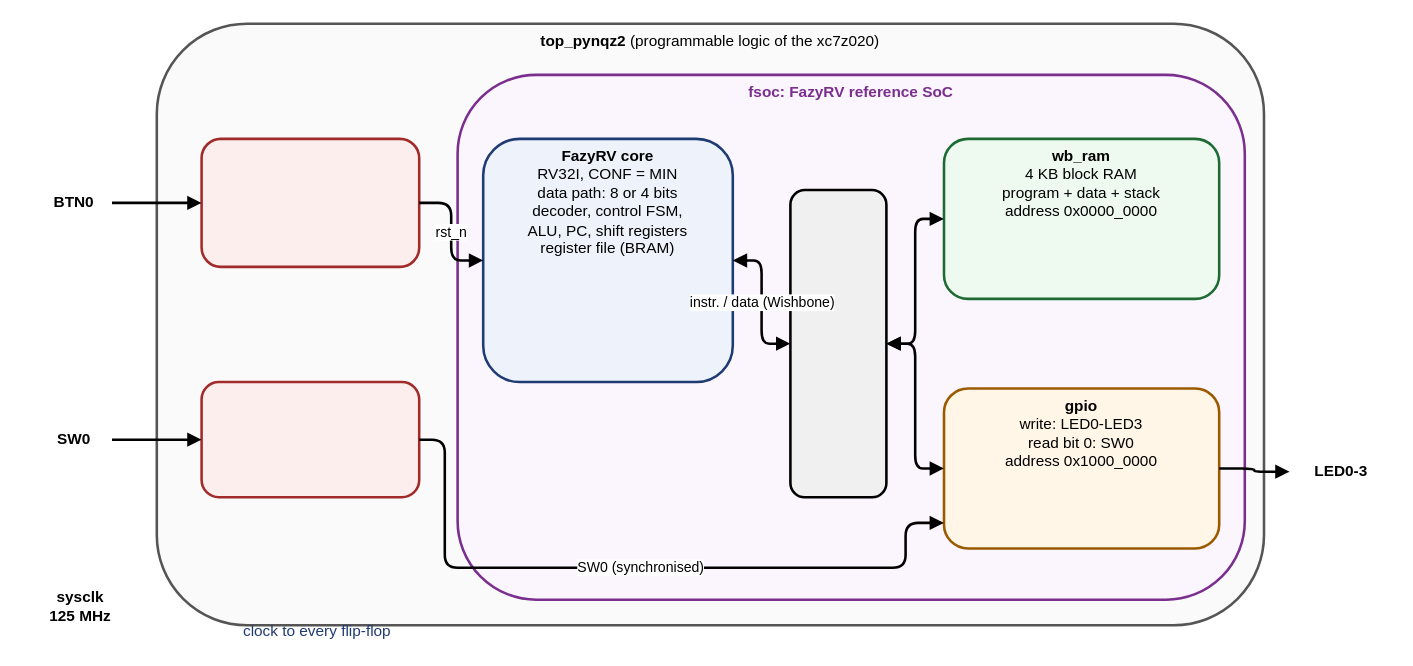
This 1413x666 diagram has some shape labels left out. Here are the shapes that lost their labels. From the top down, the centre of each, then its label:
At pixel 310 202: "Reset stretcher 5-bit counter 16 cycles after BTN0".
At pixel 837 343: "address decode (bit 28)".
At pixel 310 439: "Synchroniser 2 flip-flops on SW0".
